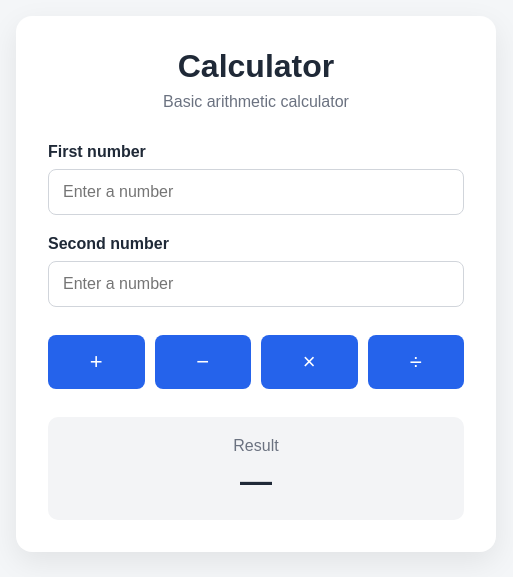
it: Calculator › calculates an addition
Type "10" into the number field labelled "First number" at (256, 192), box [48,169,464,215]
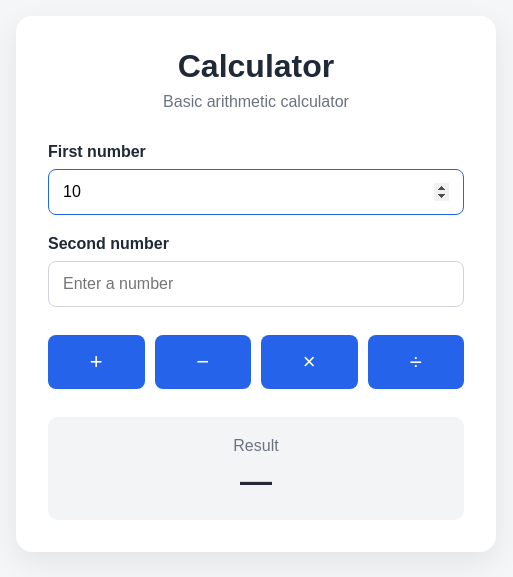
Type "5" into the number field labelled "Second number" at (256, 284), box [48,261,464,307]
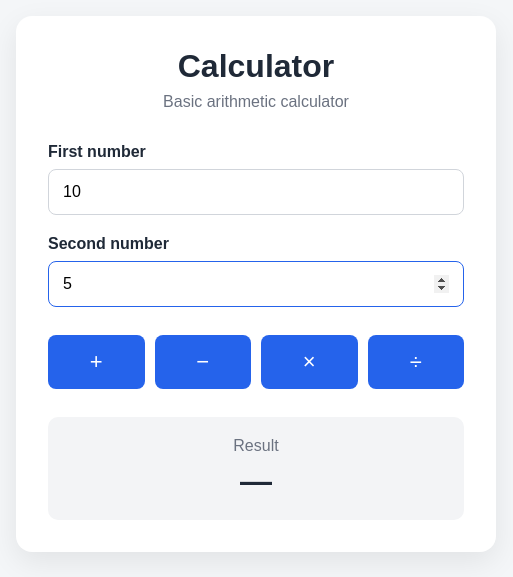
Click the button "+" at (96, 362), box [48,335,144,389]
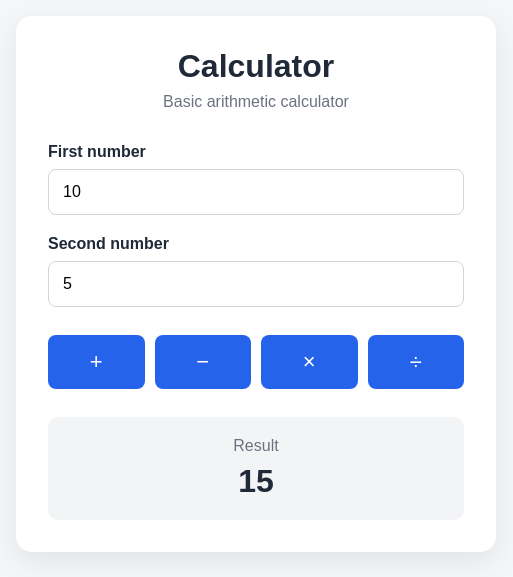
Check: the text "15" is shown, box [238,463,274,499]
